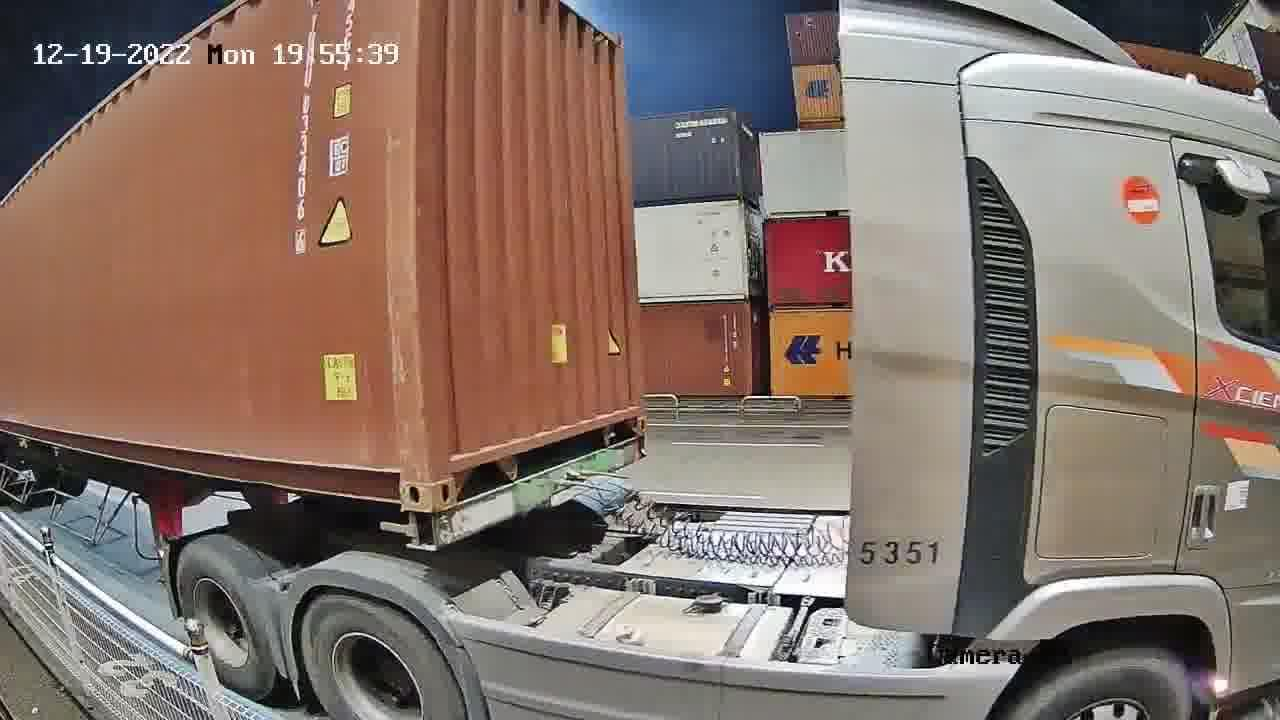Chassis: (403, 432, 647, 546)
Cone: (404, 514, 436, 545)
Hole_L: (427, 431, 488, 512)
Hole_R: (362, 443, 435, 513), (611, 392, 646, 443)
Tire: (304, 598, 461, 719), (176, 542, 274, 695)
